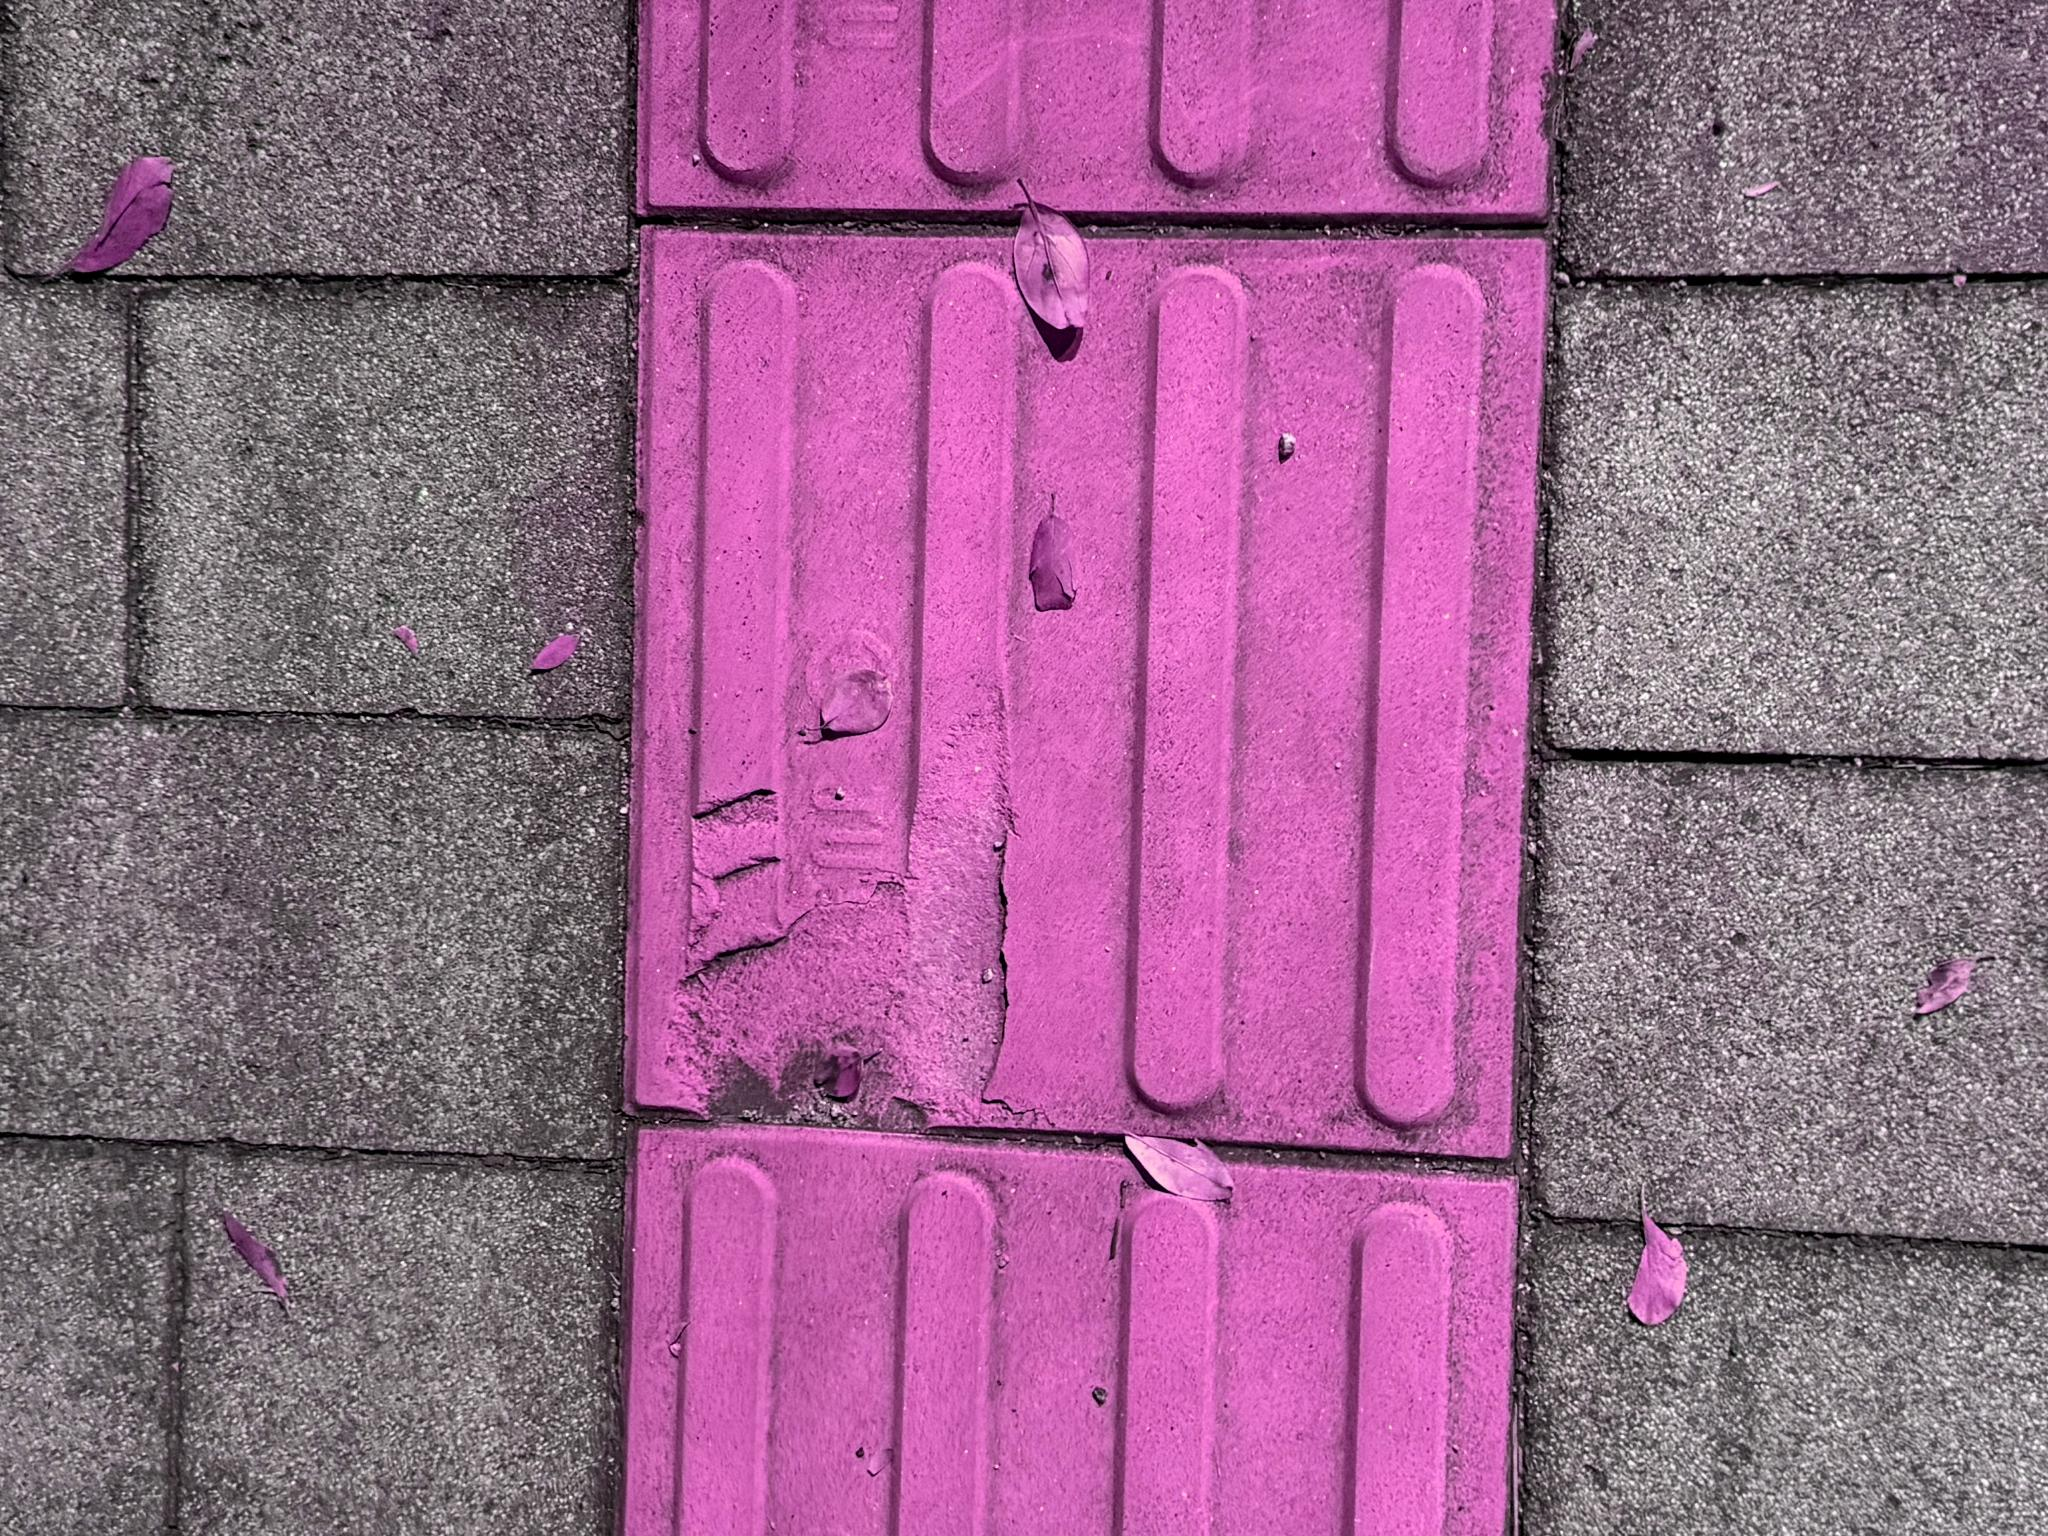Straight block broken: (382, 637, 1303, 1536)
